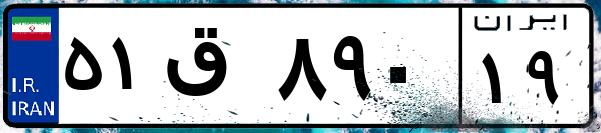0: (385, 28, 445, 110)
1: (475, 38, 525, 113), (110, 28, 158, 98)
5: (57, 26, 110, 100)
8: (270, 28, 330, 110)
9: (330, 28, 385, 110), (525, 38, 570, 115)
ق: (158, 20, 270, 120)
